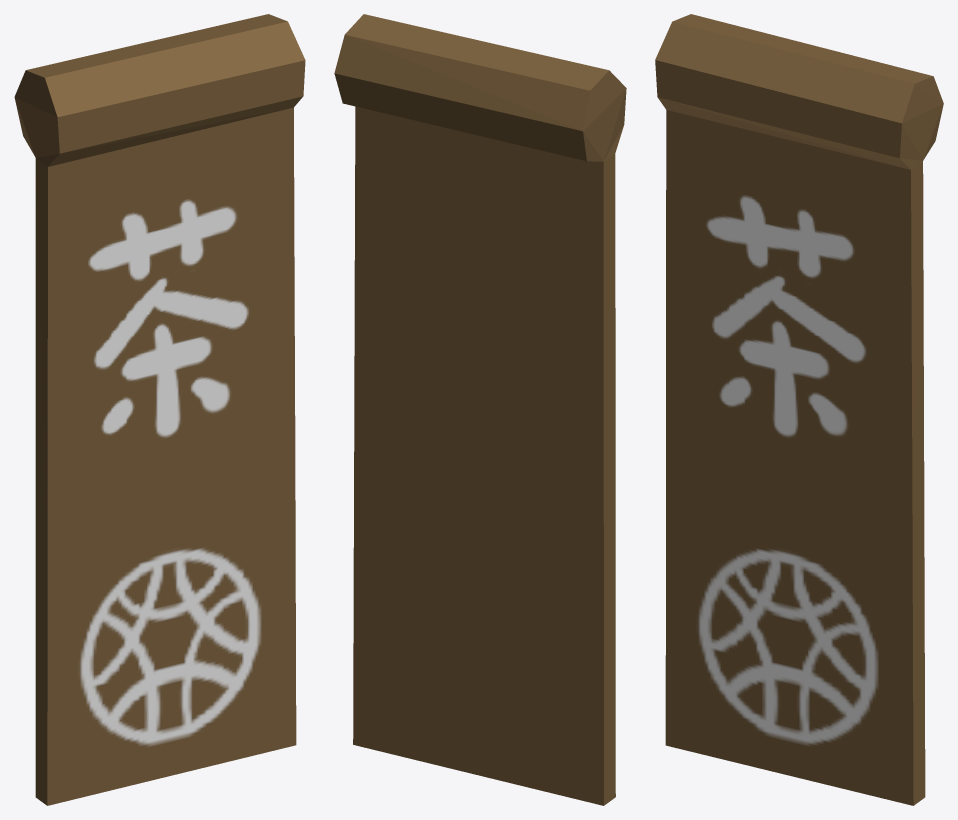
File: MarketStall_Flag_Tea.gltf
3 renders of one model, left to right at view 1: azimuth 30°, elevation 25°; view 2: azimuth 150°, elevation 25°; view 3: azimuth 330°, elevation 25°, orthographic.
Parts seen in each view (by area): view 1: MarketStall_Flag_Tea; view 2: MarketStall_Flag_Tea; view 3: MarketStall_Flag_Tea.
Boxes of the visible parts, box(x1,y1,x2,y2) form: MarketStall_Flag_Tea: box(14, 14, 305, 805); MarketStall_Flag_Tea: box(334, 14, 626, 805); MarketStall_Flag_Tea: box(655, 14, 943, 805).
Size of the model in its own units: 0.3827 by 1.06 by 0.1149.
1 material, 1 textured.
